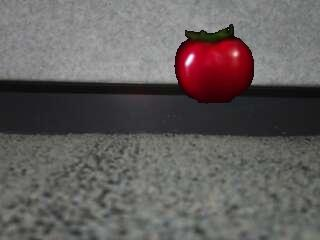Tomato: (172, 23, 256, 106)
